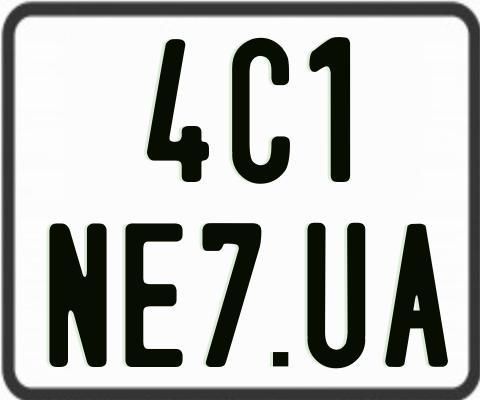1: (308, 34, 350, 179)
4: (144, 37, 209, 185)
7: (202, 221, 264, 367)
A: (382, 221, 451, 365)
C: (231, 38, 293, 190)
E: (125, 221, 185, 369)
N: (49, 222, 108, 370)
U: (307, 223, 368, 372)
